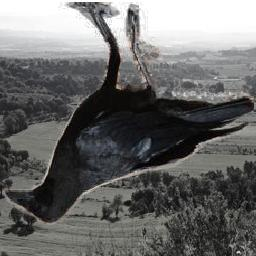Crow: (2, 2, 254, 228)
